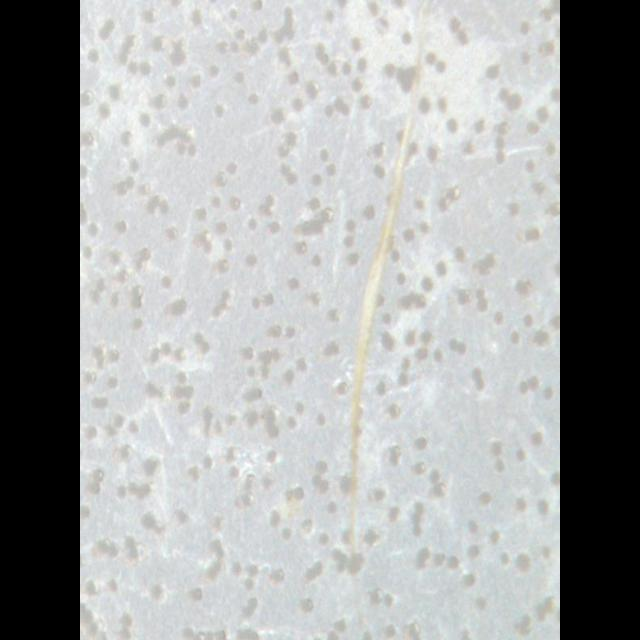Fibre: (344, 0, 430, 640)
